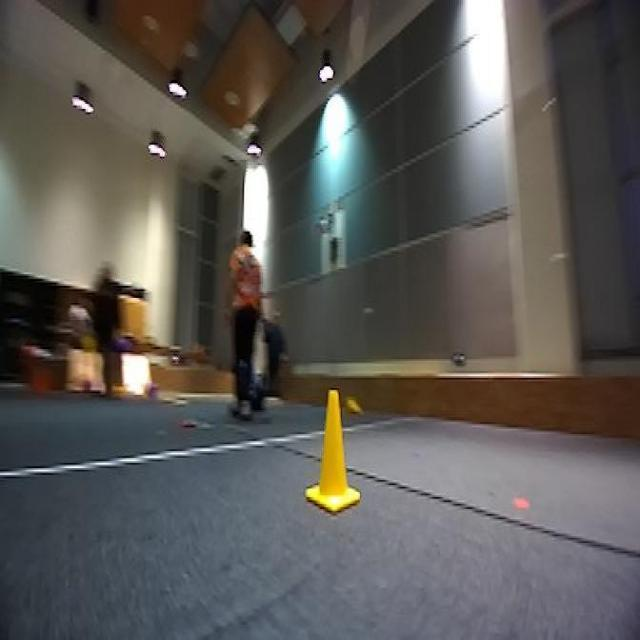frc_cone: (309, 403, 356, 522), (334, 390, 367, 419)
